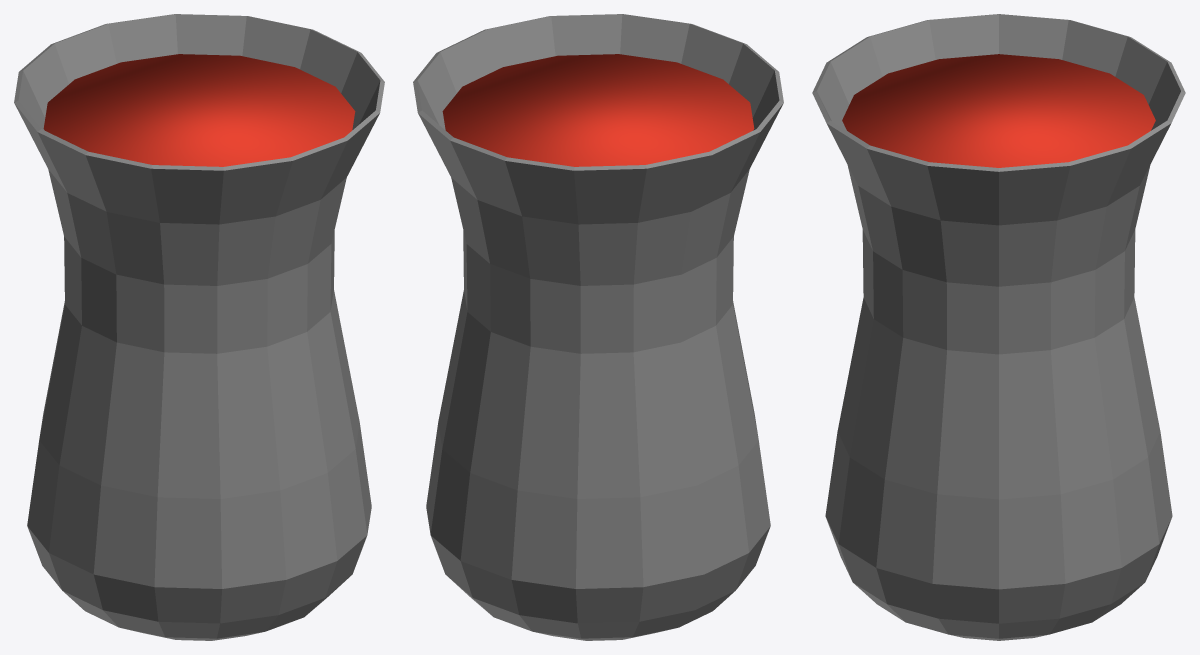
File: TeaGlass(tea_light).fbx
3 renders of one model, left to right at view 1: azimuth 30°, elevation 25°; view 2: azimuth 150°, elevation 25°; view 3: azimuth 270°, elevation 25°, orthographic.
Visible parts, largest first — view 1: TeaGlass, LightTeaFull; view 2: TeaGlass, LightTeaFull; view 3: TeaGlass, LightTeaFull.
Boxes of the visible parts, x1=… form: TeaGlass: x1=14, y1=14, x2=384, y2=640; LightTeaFull: x1=43, y1=54, x2=355, y2=166; TeaGlass: x1=413, y1=14, x2=783, y2=640; LightTeaFull: x1=442, y1=54, x2=754, y2=166; TeaGlass: x1=812, y1=14, x2=1185, y2=640; LightTeaFull: x1=842, y1=54, x2=1155, y2=167.
Size of the model in its own units: 37.07 by 55.99 by 37.07.
